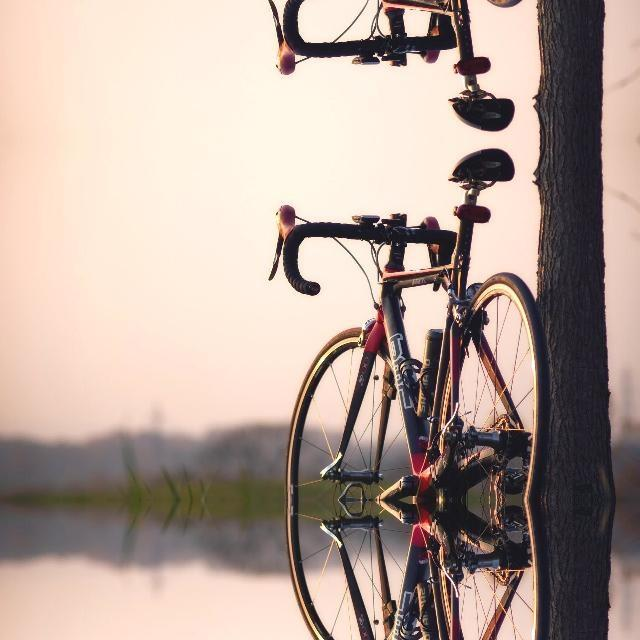obstacle: (256, 140, 554, 500), (256, 0, 553, 140), (256, 500, 553, 640)
